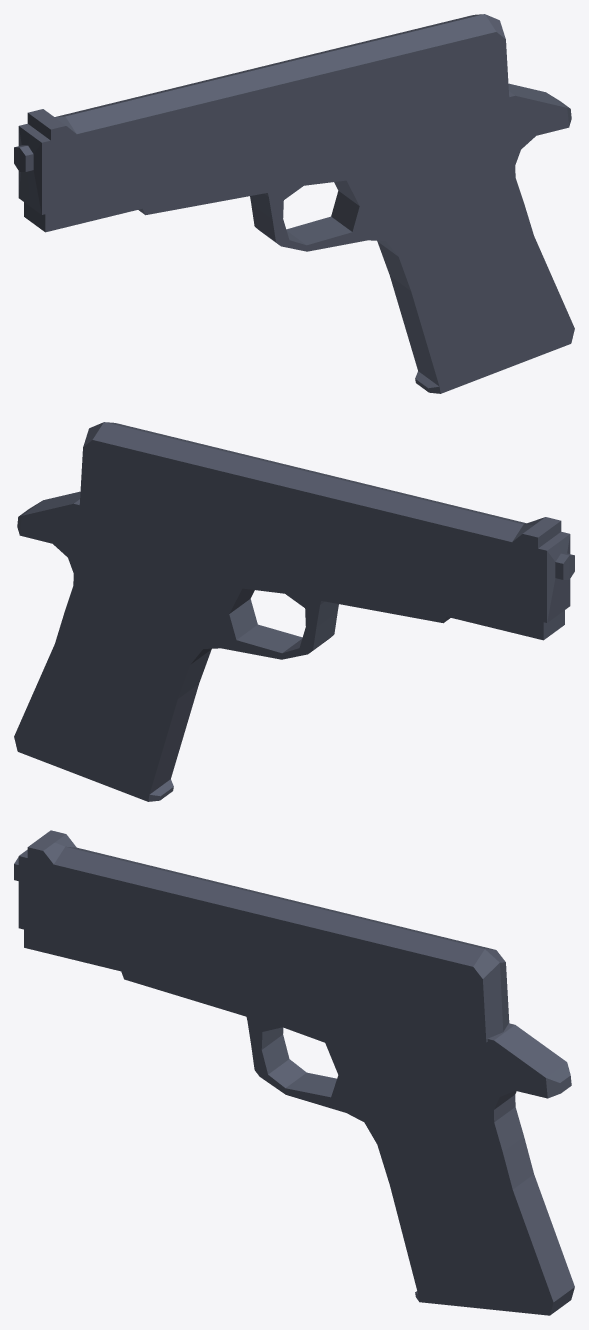
Rendered from coltm1911test.obj.
3 views of the same model, one above another, from view 1: azimuth 30°, elevation 25°; view 2: azimuth 150°, elevation 25°; view 3: azimuth 330°, elevation 25° (orthographic).
Visible parts, largest first — view 1: Cube; view 2: Cube; view 3: Cube.
Boxes of the visible parts, x1=… form: Cube: x1=14, y1=14, x2=574, y2=393; Cube: x1=14, y1=422, x2=574, y2=801; Cube: x1=14, y1=830, x2=574, y2=1315.
Bounding box in the file's own units: 4.98 × 3.14 × 0.3645.
